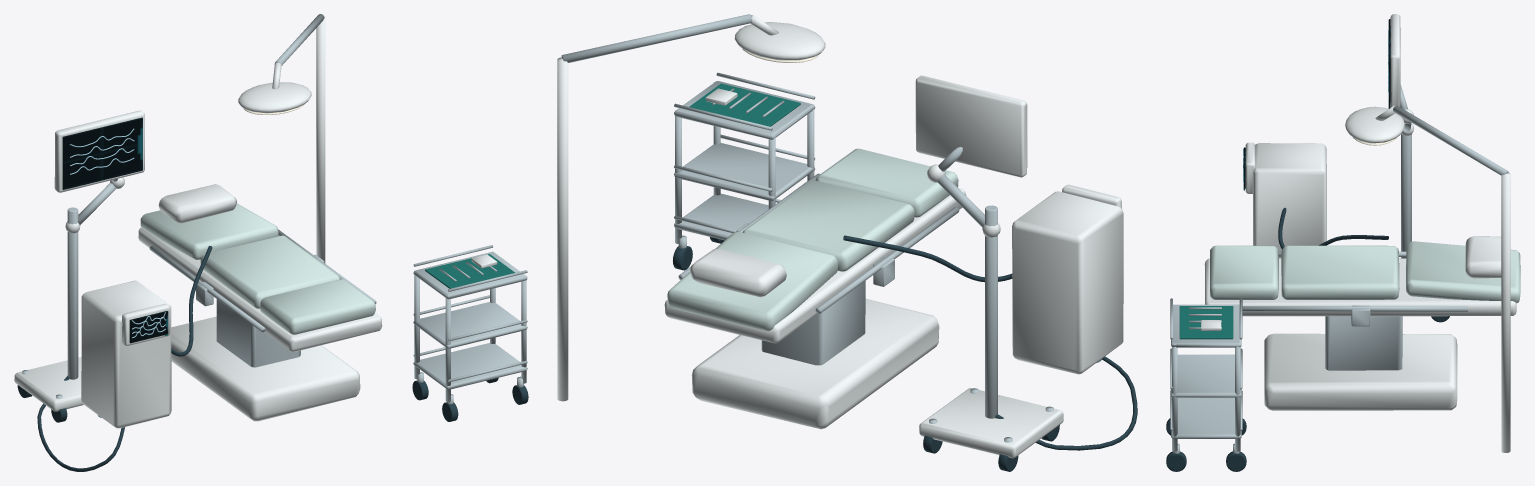
Rendered from care-lod.glb.
3 views of the same model, side by side, from view 1: azimuth 30°, elevation 25°; view 2: azimuth 150°, elevation 25°; view 3: azimuth 270°, elevation 25° (orthographic). The views are drawn at different scales.
Parts seen in each view (by area): view 1: care__Powder coat • warm porcelain, care__Brushed aluminium, care__Linen upholstery, care__Diagnostic glass • fictional, care__Rubber and screen bezel, care__Matte woven drape, care__Pale blue polymer; view 2: care__Powder coat • warm porcelain, care__Brushed aluminium, care__Linen upholstery, care__Rubber and screen bezel, care__Matte woven drape; view 3: care__Powder coat • warm porcelain, care__Brushed aluminium, care__Linen upholstery, care__Matte woven drape, care__Rubber and screen bezel, care__Diagnostic glass • fictional.
Part boxes in pixels (left/top/right/bottom): care__Powder coat • warm porcelain: left=14, top=16, right=497, bottom=428; care__Brushed aluminium: left=22, top=14, right=527, bottom=404; care__Linen upholstery: left=140, top=203, right=375, bottom=334; care__Diagnostic glass • fictional: left=62, top=117, right=168, bottom=343; care__Rubber and screen bezel: left=17, top=246, right=528, bottom=471; care__Matte woven drape: left=164, top=254, right=515, bottom=335; care__Pale blue polymer: left=70, top=128, right=165, bottom=417; care__Powder coat • warm porcelain: left=557, top=15, right=1123, bottom=458; care__Brushed aluminium: left=561, top=14, right=1053, bottom=442; care__Linen upholstery: left=667, top=148, right=958, bottom=331; care__Rubber and screen bezel: left=673, top=235, right=1137, bottom=471; care__Matte woven drape: left=689, top=83, right=800, bottom=126; care__Powder coat • warm porcelain: left=1201, top=14, right=1516, bottom=452; care__Brushed aluminium: left=1170, top=85, right=1508, bottom=453; care__Linen upholstery: left=1210, top=241, right=1520, bottom=302; care__Matte woven drape: left=1179, top=189, right=1244, bottom=339; care__Rubber and screen bezel: left=1166, top=207, right=1449, bottom=471; care__Diagnostic glass • fictional: left=1243, top=19, right=1390, bottom=189.
Bounding box in the file's own units: 2.96 × 2.2 × 2.25.
8 materials, 2 textured.
